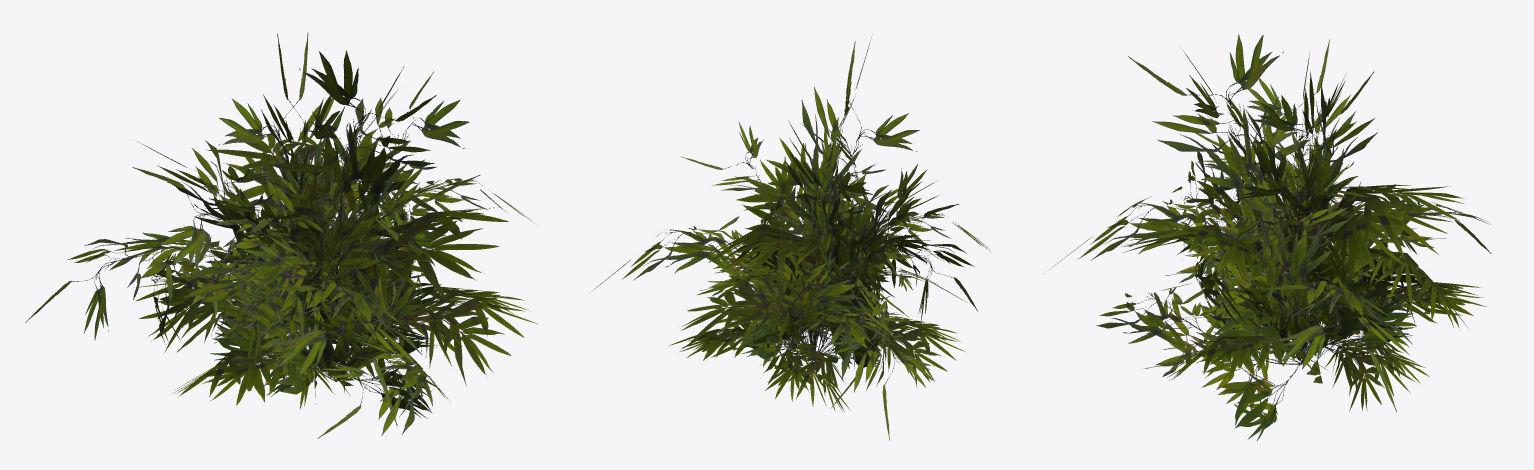
The model's file is bush_04.obj.
3 views of the same model, side by side, from view 1: azimuth 30°, elevation 25°; view 2: azimuth 150°, elevation 25°; view 3: azimuth 270°, elevation 25° (orthographic). The views are drawn at different scales.
Parts seen in each view (by area): view 1: bush_04; view 2: bush_04; view 3: bush_04.
Part boxes in pixels (x1,y1,x2,y2): bush_04: (25, 32, 538, 438); bush_04: (591, 35, 991, 440); bush_04: (1049, 34, 1491, 440).
Bounding box in the file's own units: 111 × 100 × 110.
